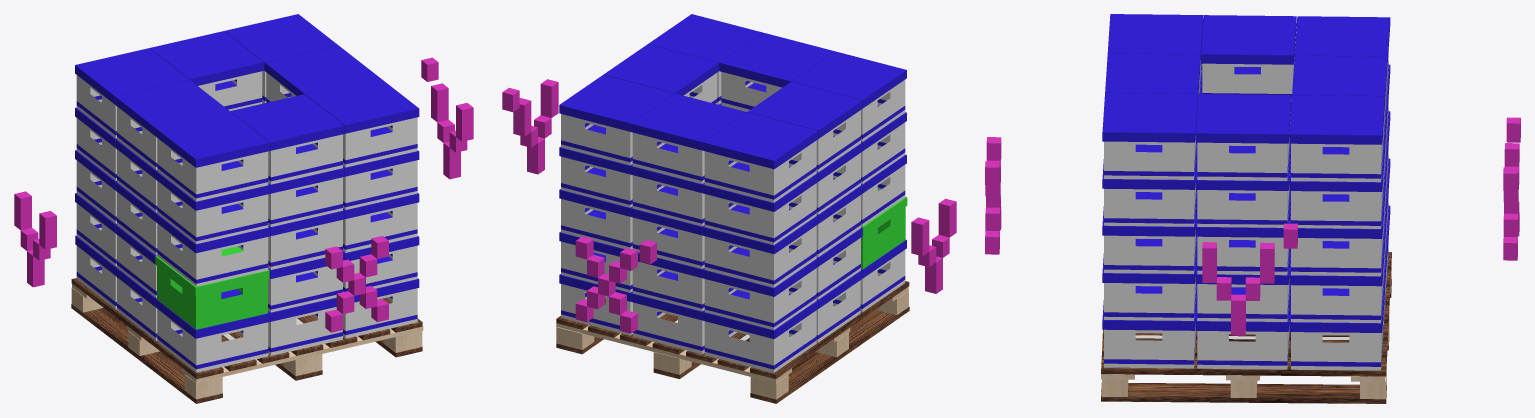
The picture shows the model from 3 angles, left to right: view 1: azimuth 30°, elevation 25°; view 2: azimuth 150°, elevation 25°; view 3: azimuth 270°, elevation 25°; orthographic projection. The views are drawn at different scales.
Visible parts, largest first — view 1: CajaVerde, Cube.031_1, Cube.026_1, Cube.033_1, Cube.032_1, Cube.029_1, Cube.030_1, Cube.027_1, Cube.012_0, Cube.031_0, Cube.039_0, Cube.020_0 (+53 smaller); view 2: Cube.029_1, Cube.032_1, Cube.028_1, Cube.033_1, Cube.030_1, Cube.031_1, Cube.027_1, Cube.007_0, Cube.022_0, Cube.029_0, Cube.014_0, Cube.037_0 (+53 smaller); view 3: Cube.028_1, Cube.027_1, Cube.026_1, Cube.030_1, Cube055, Cube.032_1, Cube.029_1, Cube.031_1, Cube.033_1, Cube.001_0, Cube.003_0, Cube.002_0 (+33 smaller).
Part boxes in pixels (x1,y1,x2,y2): CajaVerde: [155, 246, 269, 329]; Cube.031_1: [155, 111, 269, 198]; Cube.026_1: [305, 77, 419, 164]; Cube.033_1: [230, 94, 344, 181]; Cube.032_1: [149, 31, 263, 109]; Cube.029_1: [75, 48, 188, 135]; Cube.030_1: [115, 79, 229, 166]; Cube.027_1: [264, 45, 378, 102]; Cube.012_0: [157, 309, 268, 372]; Cube.031_0: [157, 138, 268, 201]; Cube.039_0: [157, 181, 268, 243]; Cube.020_0: [157, 223, 268, 286]; Cube.029_1: [703, 112, 818, 199]; Cube.032_1: [631, 93, 746, 180]; Cube.028_1: [559, 75, 674, 162]; Cube.033_1: [719, 32, 834, 109]; Cube.030_1: [747, 81, 862, 169]; Cube.031_1: [791, 51, 906, 138]; Cube.027_1: [603, 44, 718, 103]; Cube.007_0: [704, 310, 816, 372]; Cube.022_0: [704, 225, 816, 287]; Cube.029_0: [704, 140, 816, 202]; Cube.014_0: [704, 268, 816, 329]; Cube.037_0: [704, 183, 816, 244]; Cube.028_1: [1289, 95, 1384, 178]; Cube.027_1: [1196, 94, 1291, 177]; Cube.026_1: [1102, 93, 1197, 176]; Cube.030_1: [1201, 15, 1296, 98]; Cube055: [1101, 383, 1386, 403]; Cube.032_1: [1292, 55, 1387, 135]; Cube.029_1: [1294, 16, 1390, 95]; Cube.031_1: [1107, 14, 1203, 93]; Cube.033_1: [1105, 53, 1200, 98]; Cube.001_0: [1104, 324, 1196, 368]; Cube.003_0: [1291, 316, 1383, 370]; Cube.002_0: [1197, 315, 1289, 369].
Bounding box in the file's own units: 4.24 × 2.33 × 4.23.
Materials: 82 (2 with a texture image).
